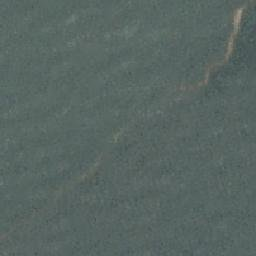debris: (225, 8, 240, 62), (201, 65, 211, 89)
